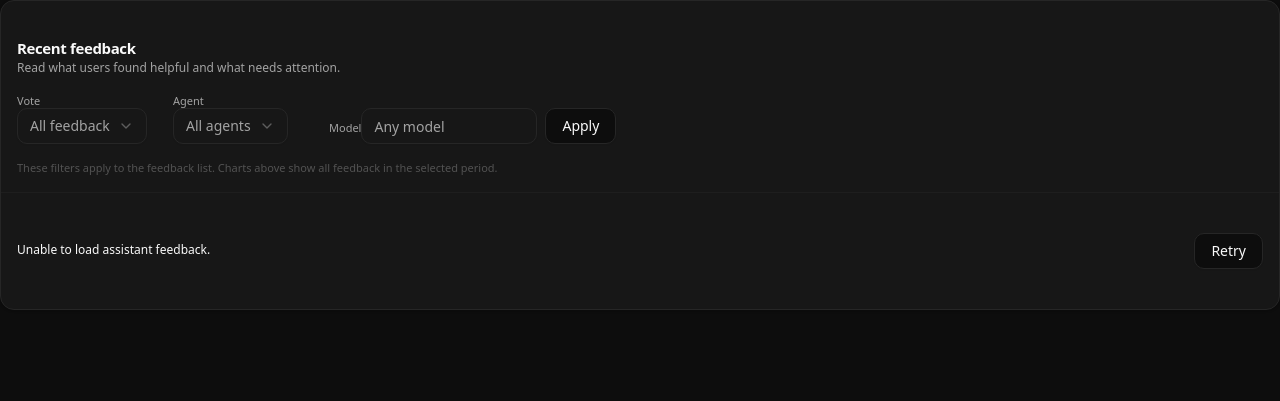
AssistantFeedbackPanel › shows a retryable load error
This screenshot has width=1280, height=401.
Check: the message shows "Unable to load", box [17, 241, 210, 258]
Click the button "Retry". click: (1229, 251)
box: [1194, 233, 1263, 269]
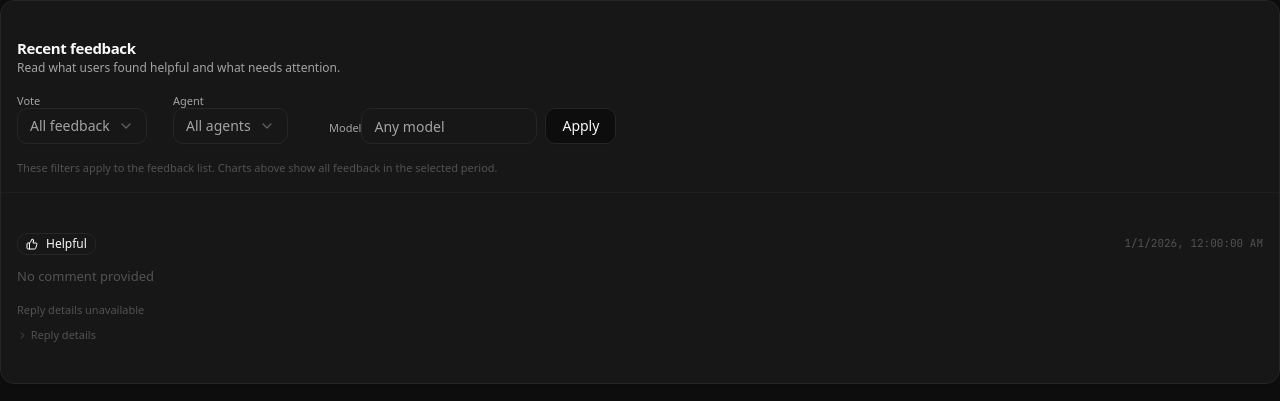
Check: the text "No comment provided" is shown, box [17, 267, 154, 285]
